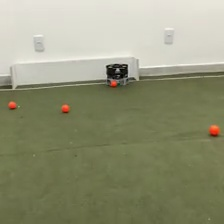ball: (208, 121, 221, 137), (7, 99, 17, 109), (60, 103, 69, 113), (110, 79, 118, 88)
goal: (9, 54, 141, 91)
robot: (104, 62, 130, 87)
